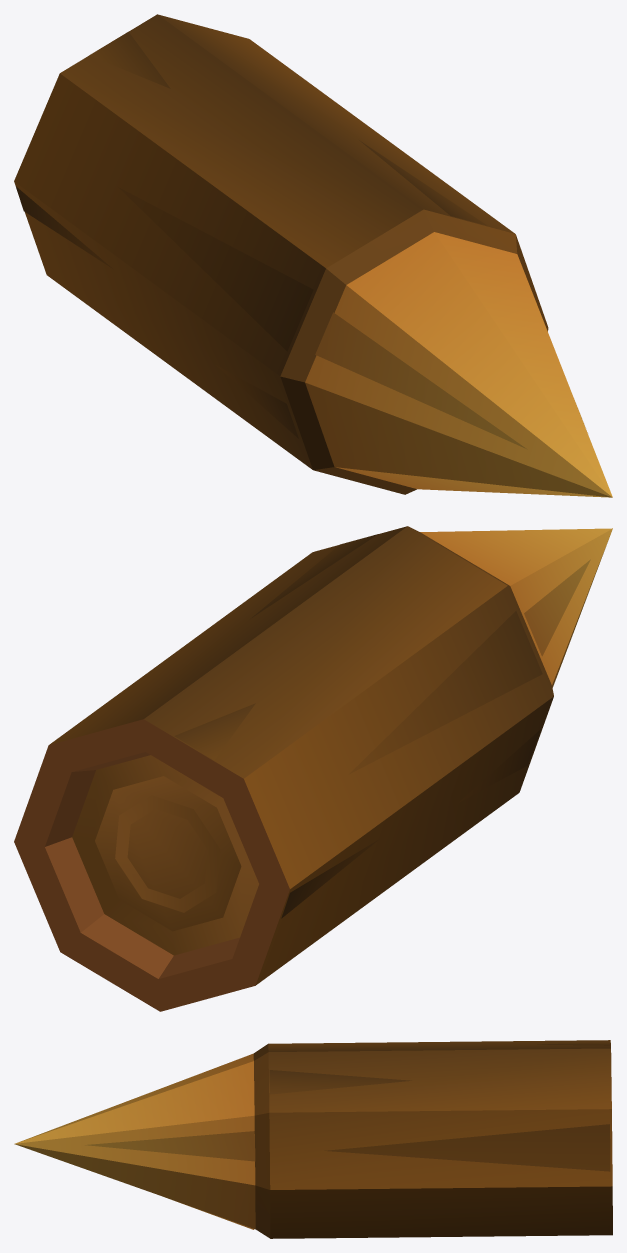
File: BrevnoMetatel.fbx
3 views of the same model, one above another, from view 1: azimuth 30°, elevation 25°; view 2: azimuth 150°, elevation 25°; view 3: azimuth 270°, elevation 25° (orthographic). The views are drawn at different scales.
Parts seen in each view (by area): view 1: Cube.002; view 2: Cube.002; view 3: Cube.002.
Boxes of the visible parts, x1,y1,x2,y2 form: Cube.002: (14,14,612,497); Cube.002: (14,526,612,1011); Cube.002: (14,1040,612,1238).
Bounding box in the file's own units: 1.08 × 1.08 × 3.15.
